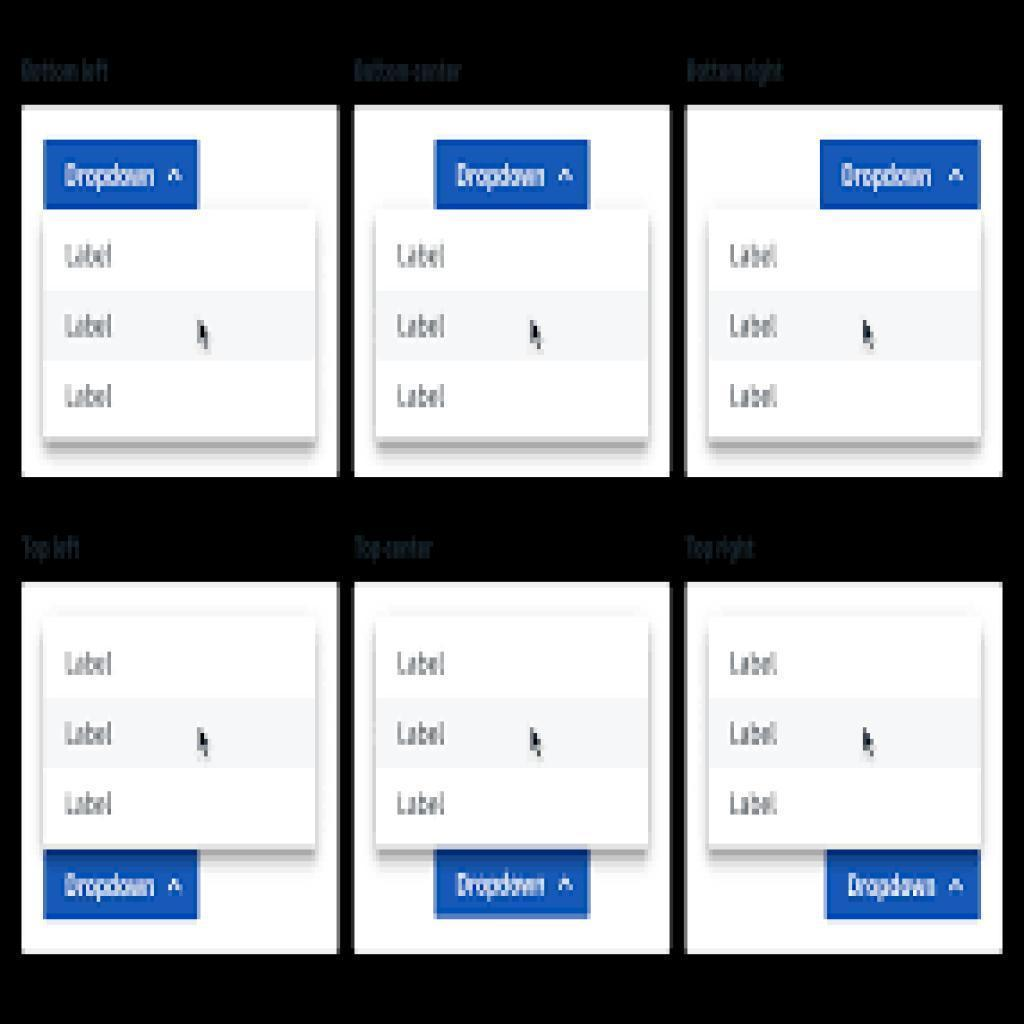dropdown: (819, 138, 980, 211), (42, 848, 200, 916), (435, 848, 590, 916), (42, 140, 199, 207), (435, 141, 587, 210), (826, 850, 979, 917)
